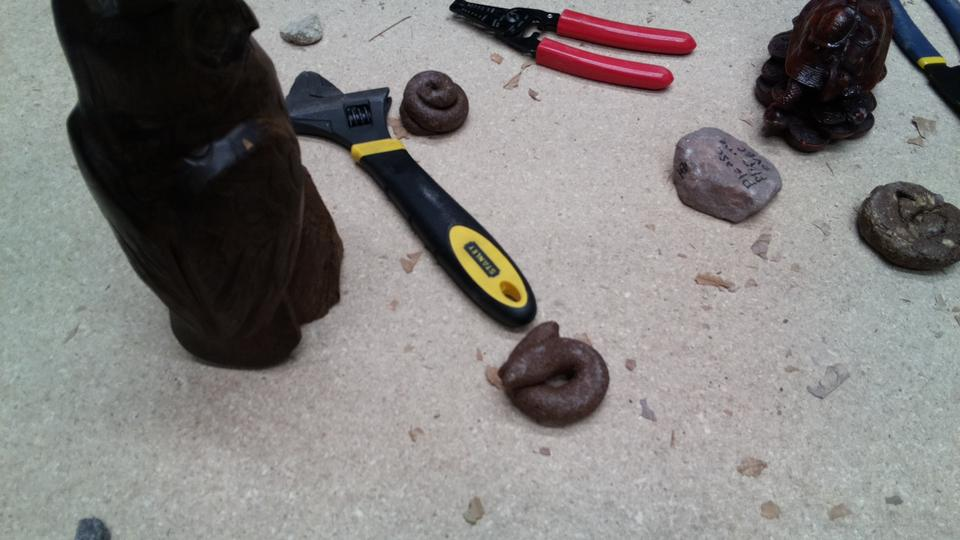poop: (495, 316, 614, 431), (853, 177, 960, 274), (397, 67, 472, 142)
